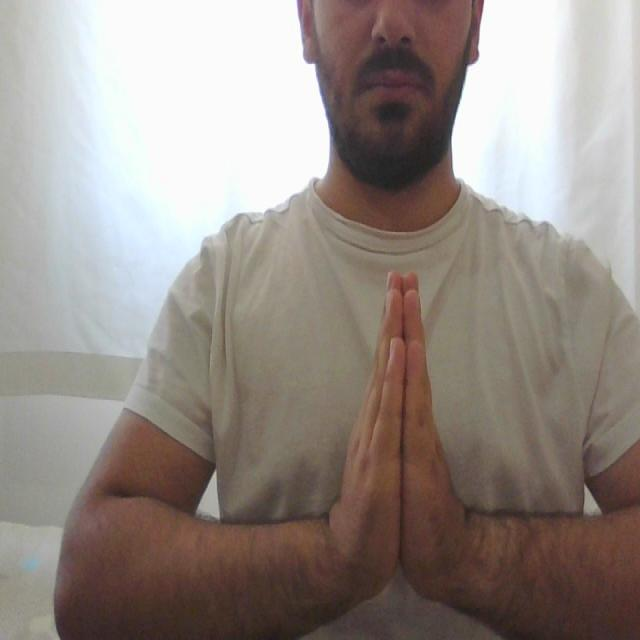Ozur-Dilemek: (328, 266, 472, 620)
